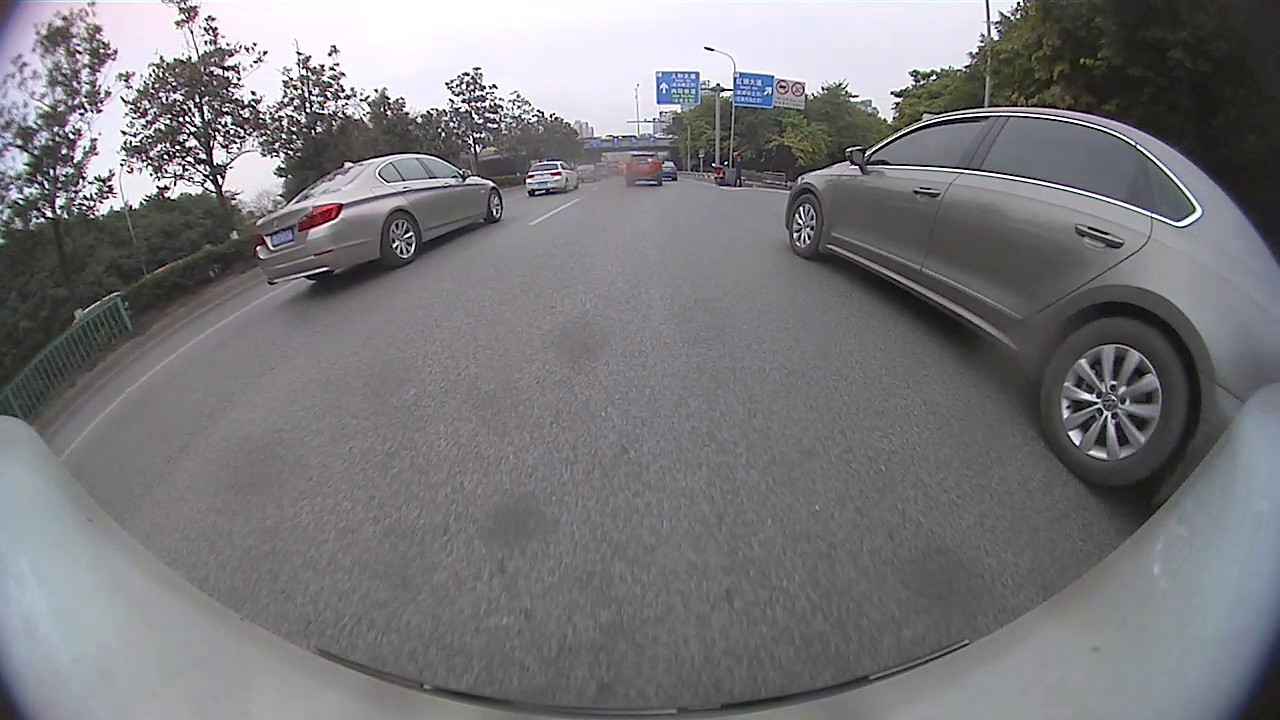car: (782, 104, 1279, 516), (251, 151, 505, 287), (524, 159, 581, 198), (623, 152, 664, 188)
front: (784, 193, 823, 259), (484, 191, 504, 223)
person: (734, 149, 743, 186)
rear: (1035, 318, 1194, 490), (382, 212, 421, 265)
rider: (711, 159, 728, 187)
